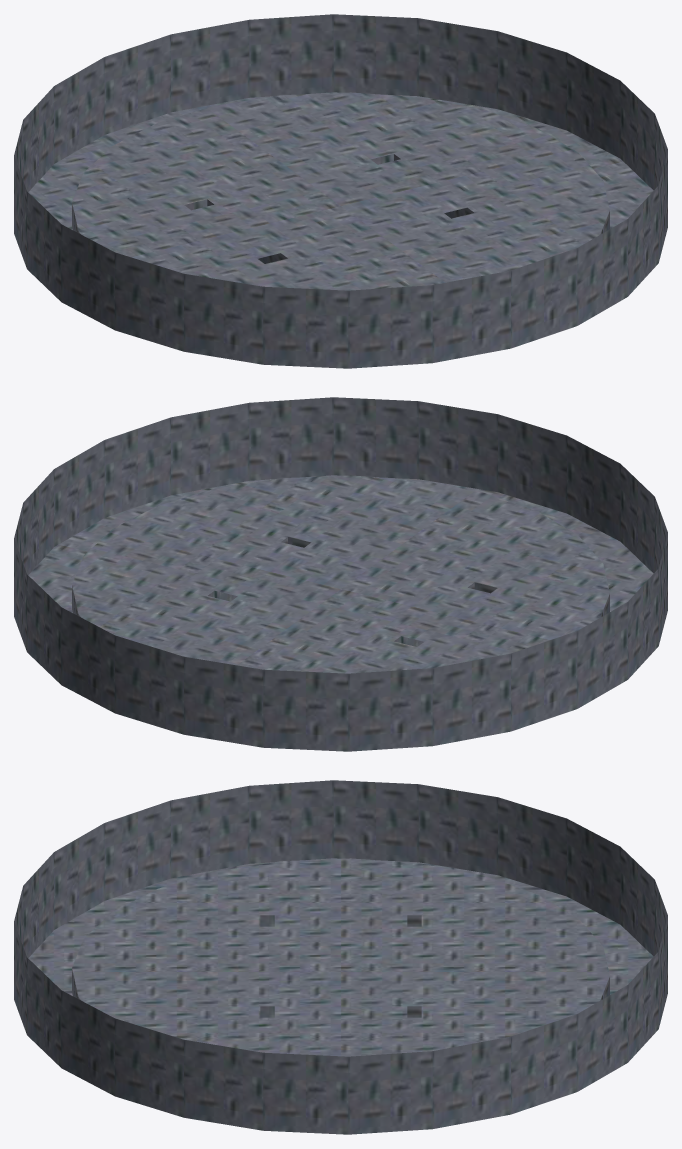
The model's file is Door.obj.
The picture shows the model from 3 angles, top to bottom: view 1: azimuth 30°, elevation 25°; view 2: azimuth 150°, elevation 25°; view 3: azimuth 270°, elevation 25°; orthographic projection.
Visible parts, largest first — view 1: Mesh1 Model; view 2: Mesh1 Model; view 3: Mesh1 Model.
Part boxes in pixels (x1=…): Mesh1 Model: x1=14, y1=14, x2=667, y2=368; Mesh1 Model: x1=14, y1=397, x2=667, y2=751; Mesh1 Model: x1=14, y1=780, x2=667, y2=1134.
Bounding box in the file's own units: 1.21 × 0.18 × 1.21.
1 material, 1 textured.
